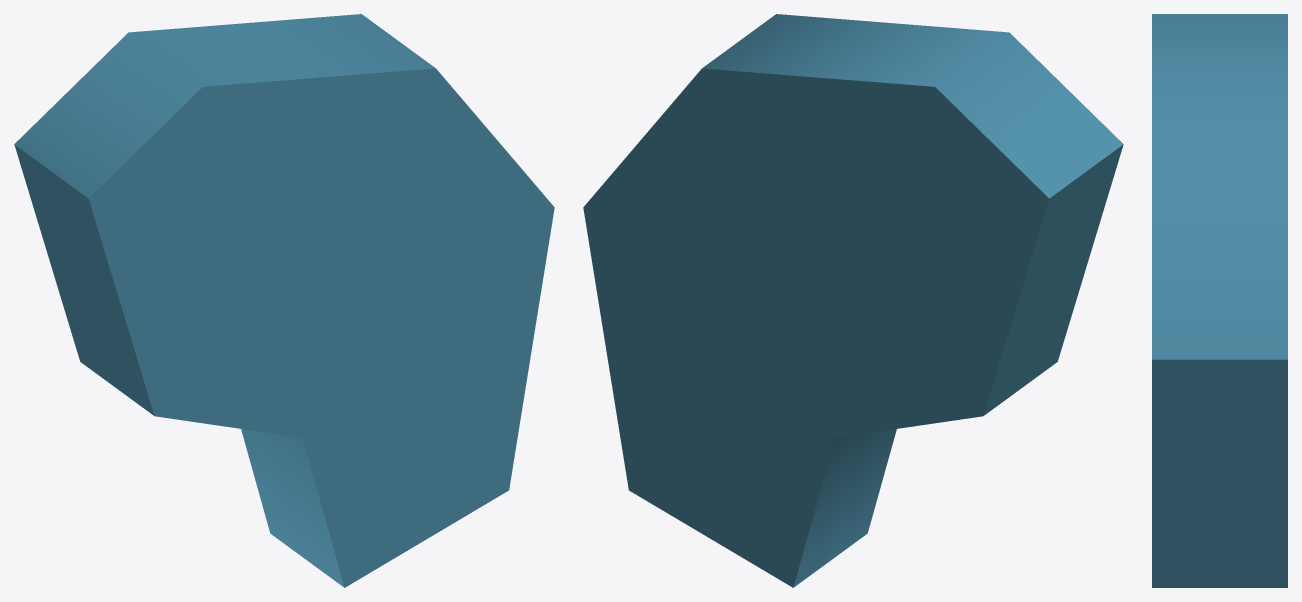
The model's file is NexusA_Trigger_22.fbx.
3 renders of one model, left to right at view 1: azimuth 30°, elevation 25°; view 2: azimuth 150°, elevation 25°; view 3: azimuth 270°, elevation 25°, orthographic. The views are drawn at different scales.
Visible parts, largest first — view 1: pCube16; view 2: pCube16; view 3: pCube16.
Boxes of the visible parts, x1=… form: pCube16: x1=14, y1=14, x2=554, y2=587; pCube16: x1=583, y1=14, x2=1123, y2=587; pCube16: x1=1152, y1=14, x2=1287, y2=587.
Bounding box in the file's own units: 49.91 × 54.82 × 13.79.
